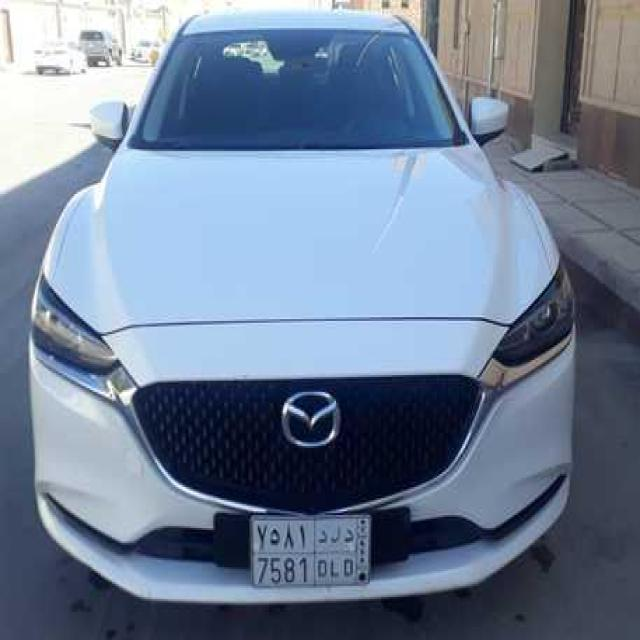license_plate: (238, 500, 377, 601)
